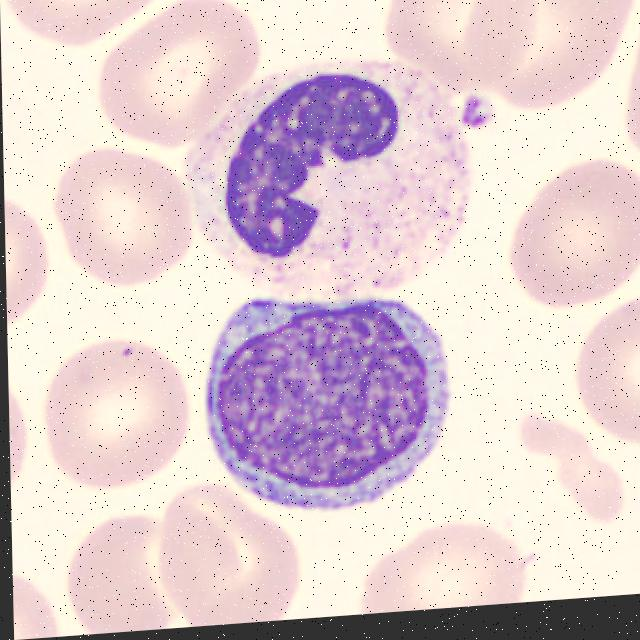lymphocyte: (183, 276, 466, 527)
neutrophil: (186, 58, 473, 304)
rbc: (87, 0, 274, 153), (42, 344, 195, 500), (149, 482, 310, 630), (507, 145, 640, 317), (53, 145, 190, 294), (354, 505, 535, 615), (61, 497, 199, 636), (461, 0, 639, 106), (519, 417, 640, 542), (384, 0, 540, 89), (575, 290, 640, 455), (0, 0, 180, 57), (4, 170, 50, 340), (602, 3, 640, 168), (12, 541, 65, 640), (8, 373, 40, 504)
